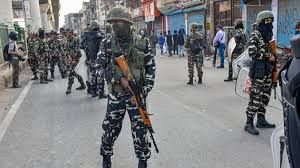gun: (115, 56, 161, 154), (266, 37, 281, 102)
uniform: (101, 35, 151, 160), (252, 13, 273, 118), (62, 30, 81, 95), (186, 24, 204, 87), (83, 27, 100, 91), (230, 19, 246, 82), (31, 35, 47, 78), (48, 34, 62, 82)
